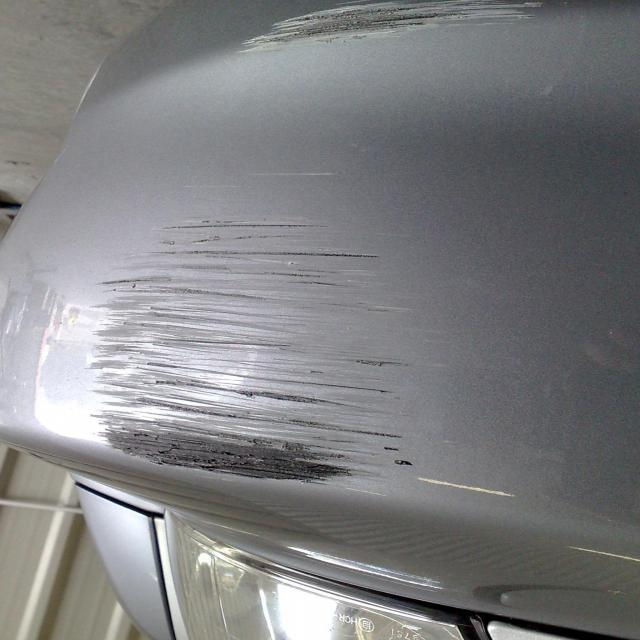scratch: (68, 216, 432, 494), (206, 0, 577, 66)
